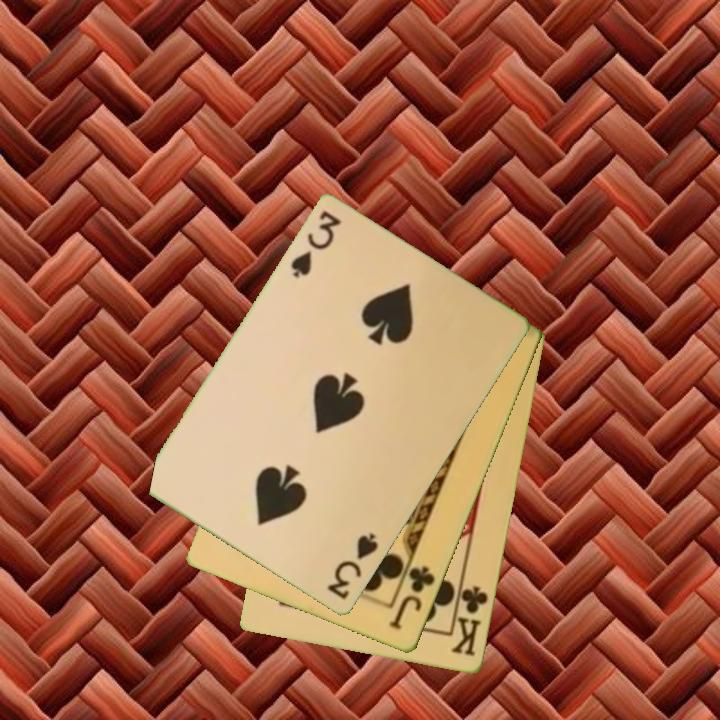3s: (287, 207, 345, 282), (324, 530, 382, 604)
Jc: (385, 563, 439, 634)
Kc: (448, 577, 491, 660)
